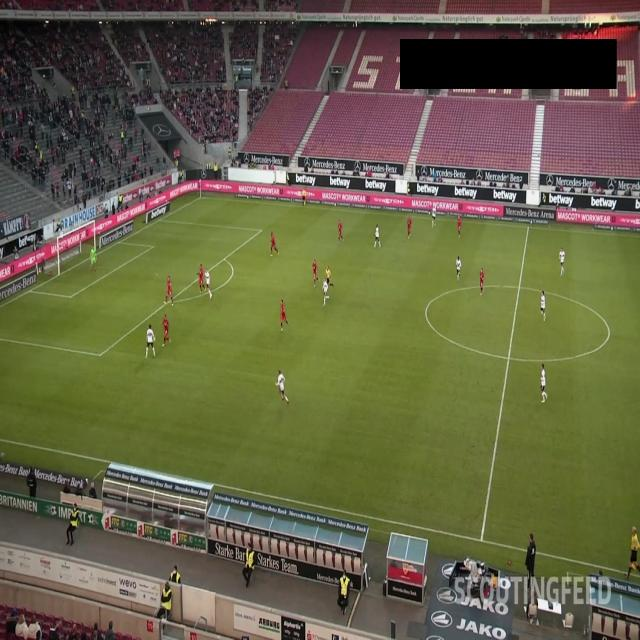f_player: (197, 265, 213, 297), (319, 268, 332, 306), (274, 369, 288, 404), (540, 363, 550, 403), (144, 328, 155, 360), (88, 246, 100, 274), (280, 298, 290, 331), (267, 231, 279, 257), (164, 278, 174, 306), (540, 290, 548, 322), (373, 224, 383, 249), (558, 249, 566, 278), (163, 318, 171, 344), (310, 260, 318, 286), (454, 257, 462, 282), (431, 205, 439, 228), (455, 216, 463, 238), (406, 218, 413, 242), (336, 222, 344, 242), (479, 268, 485, 294)
umpire: (626, 523, 640, 582), (323, 262, 338, 292)
